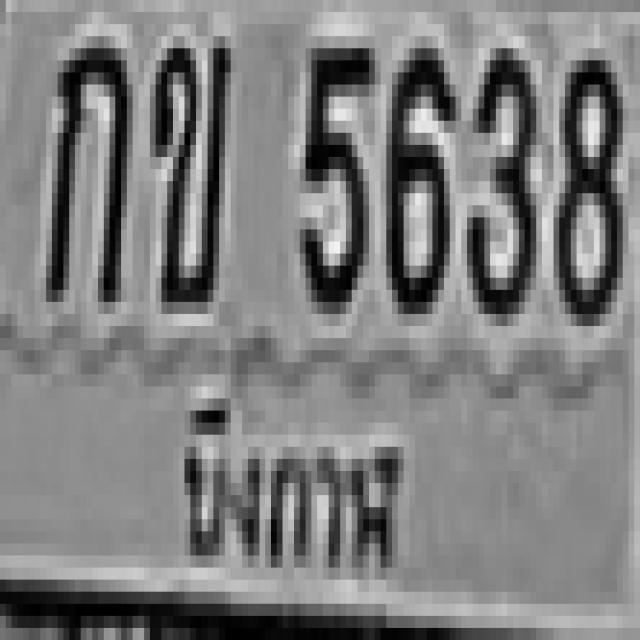10GorGai: (40, 30, 127, 296)
11KhorKhai: (147, 24, 228, 302)
3: (462, 36, 530, 314)
5: (294, 36, 369, 302)
6: (380, 36, 450, 302)
8: (553, 48, 617, 314)
BuengKan: (172, 380, 410, 606)
